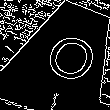O_NE: (36, 18, 101, 81)
